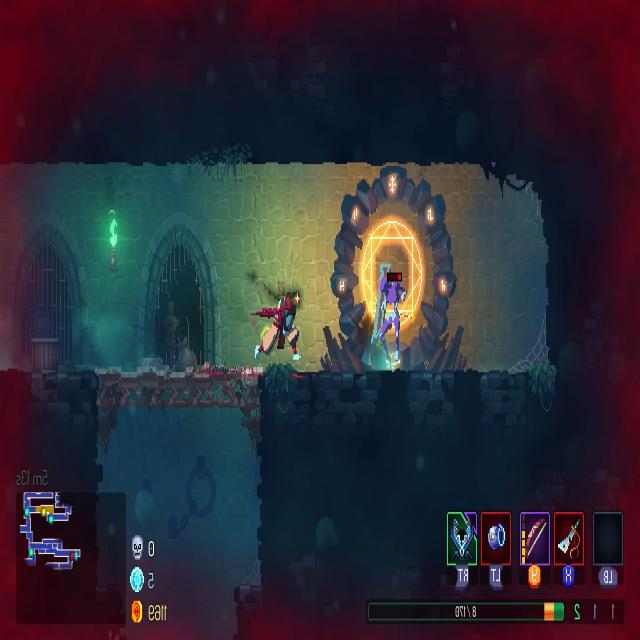agents: (255, 292, 300, 358)
enemy_purple_shield: (376, 266, 410, 376)
wood_floor: (96, 362, 262, 415)
